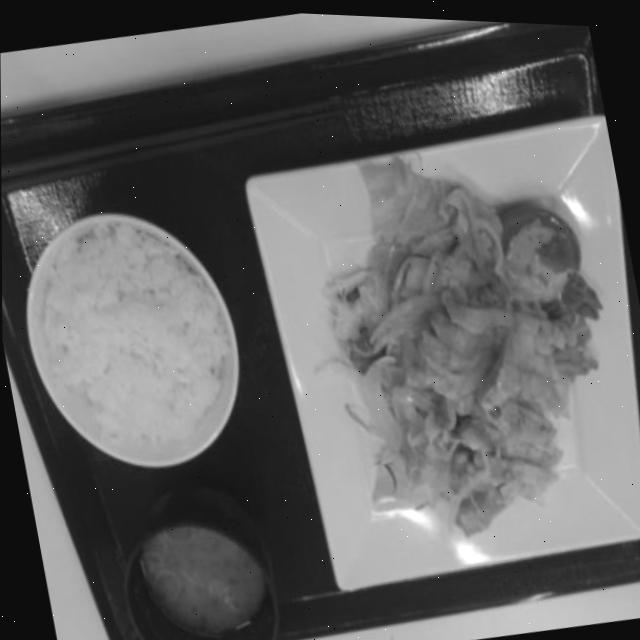米饭主食: (6, 199, 258, 489)
